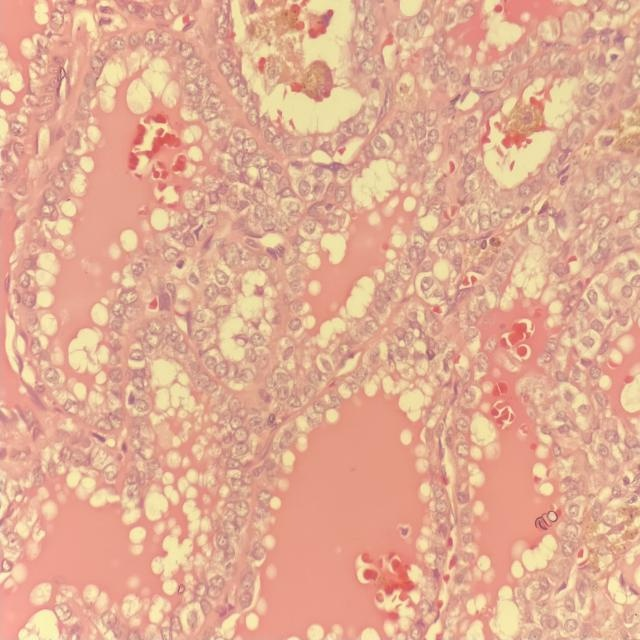TC: (294, 214, 330, 242), (428, 231, 456, 265), (367, 130, 396, 162), (220, 239, 246, 269), (290, 176, 318, 203), (493, 196, 520, 224), (412, 270, 439, 297), (469, 208, 492, 238), (194, 304, 218, 331), (252, 248, 276, 274), (113, 285, 139, 309), (280, 278, 309, 299), (160, 328, 183, 354), (334, 336, 355, 364), (210, 357, 230, 386), (197, 209, 220, 234), (275, 343, 302, 364), (236, 134, 258, 159), (163, 241, 184, 267), (126, 255, 146, 282), (423, 128, 447, 150), (541, 154, 559, 183), (209, 269, 235, 289), (461, 110, 483, 133), (288, 313, 310, 336), (405, 240, 425, 265), (361, 316, 384, 335), (400, 325, 417, 350), (247, 328, 265, 349)
